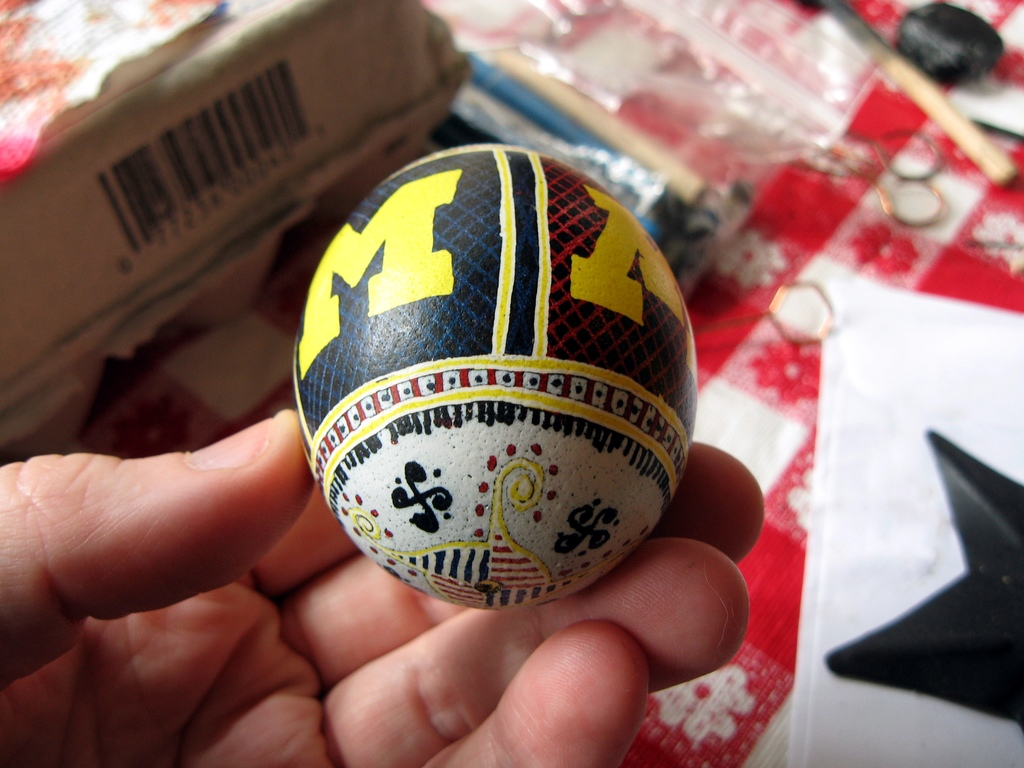Ball: (296, 141, 698, 616)
